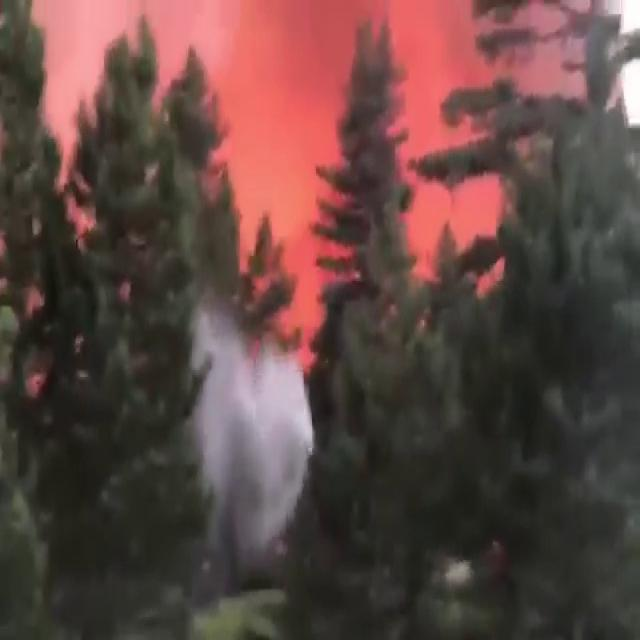Fire: (0, 4, 584, 334)
Smoke: (194, 346, 321, 582)
